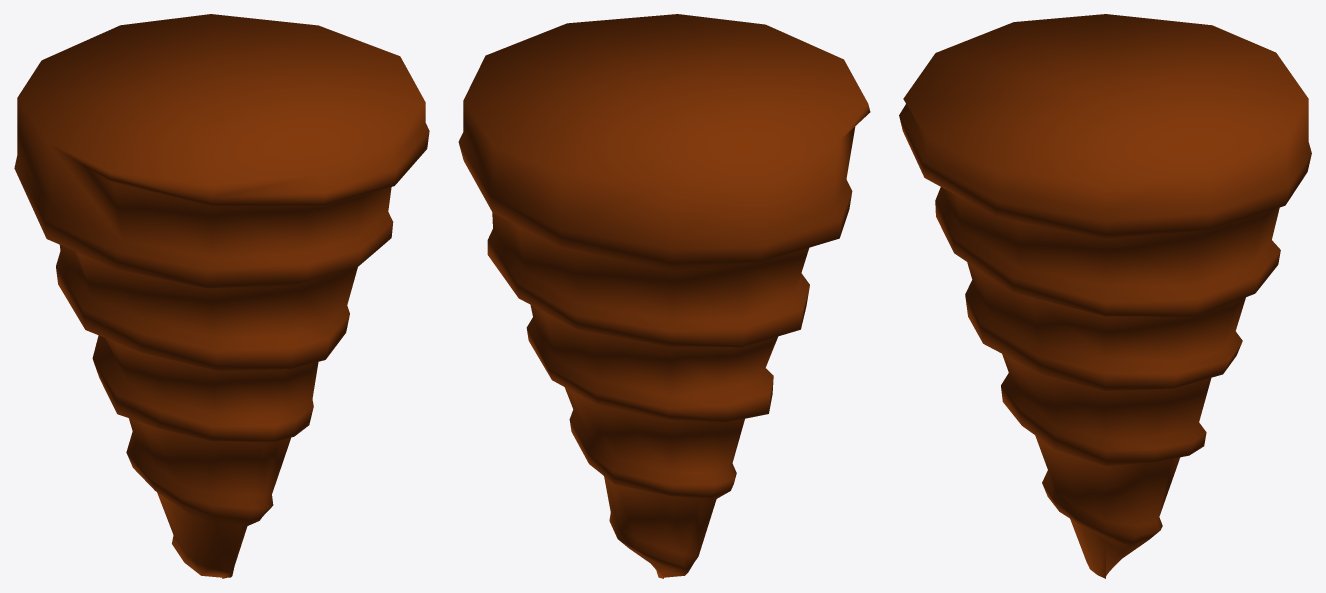
File: digger.fbx
3 views of the same model, side by side, from view 1: azimuth 30°, elevation 25°; view 2: azimuth 150°, elevation 25°; view 3: azimuth 270°, elevation 25° (orthographic).
Parts seen in each view (by area): view 1: digger; view 2: digger; view 3: digger.
Boxes of the visible parts, <box> form: digger: <box>14,14,429,578</box>; digger: <box>458,14,870,578</box>; digger: <box>899,14,1311,578</box>.
Size of the model in its own units: 0.4571 by 0.5857 by 0.4589.
